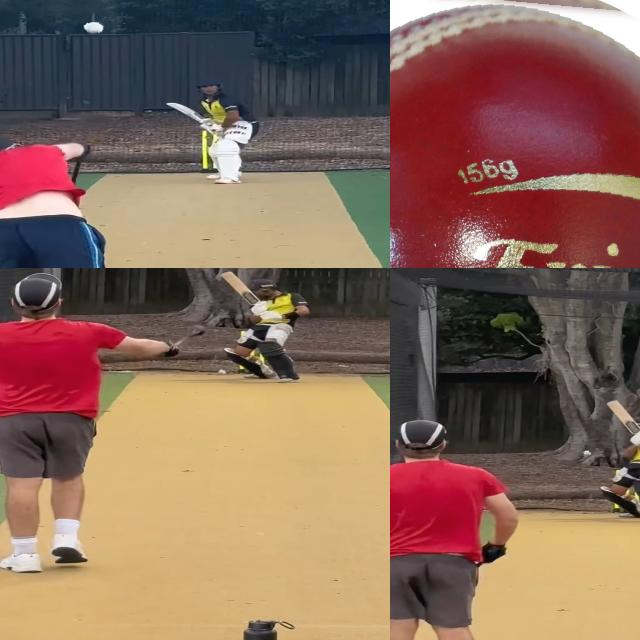Cricket ball: (390, 0, 640, 268), (82, 19, 108, 34), (217, 368, 229, 375), (583, 449, 592, 456)
